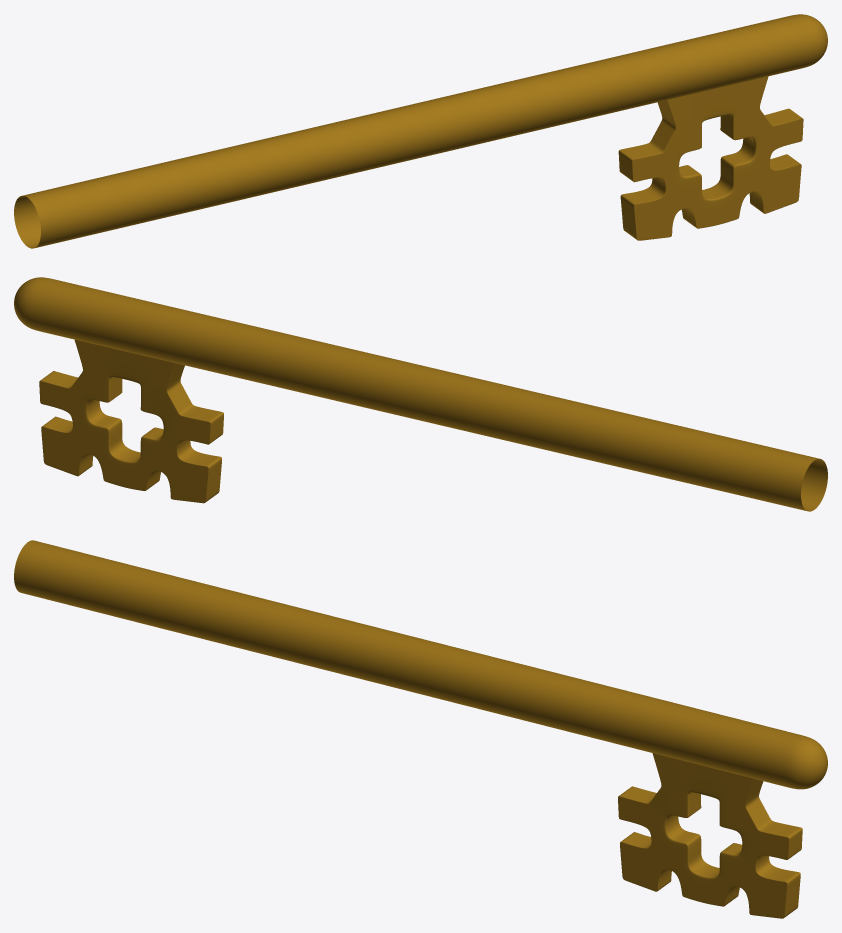
File: KeyB.FBX
3 renders of one model, top to bottom at view 1: azimuth 30°, elevation 25°; view 2: azimuth 150°, elevation 25°; view 3: azimuth 330°, elevation 25°, orthographic.
Parts seen in each view (by area): view 1: Sphere020; view 2: Sphere020; view 3: Sphere020.
Part boxes in pixels (x1=…): Sphere020: x1=14, y1=14, x2=827, y2=248; Sphere020: x1=14, y1=277, x2=827, y2=511; Sphere020: x1=14, y1=540, x2=827, y2=918.
Bounding box in the file's own units: 36.99 × 8.39 × 2.17.
